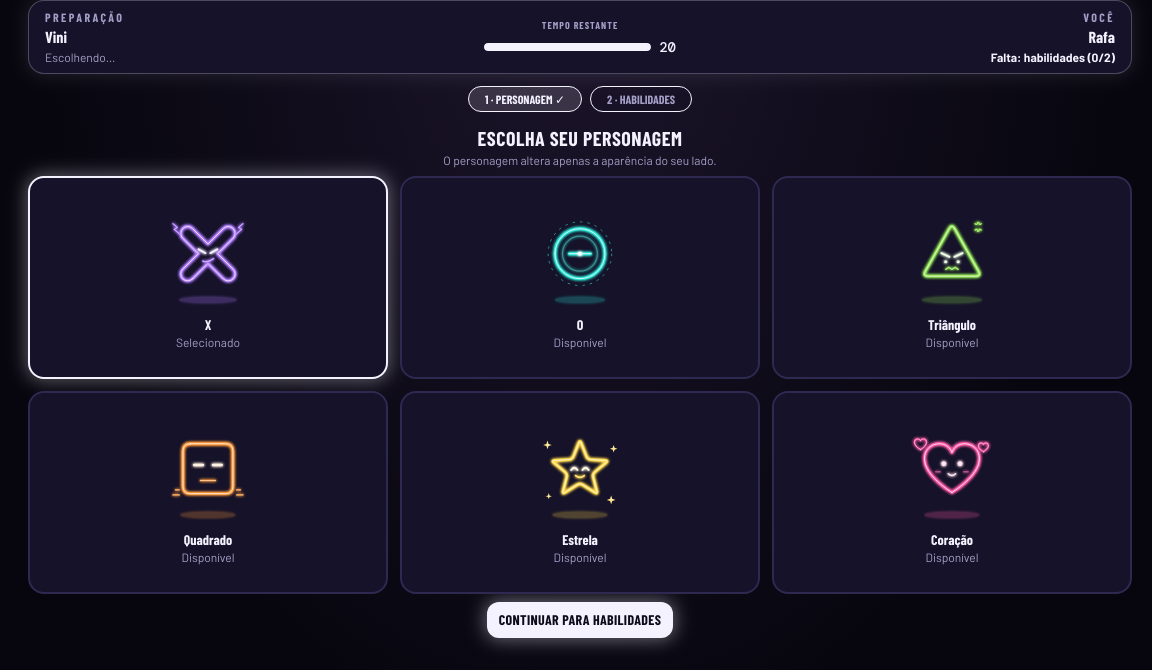
Preparação (FE-09) › sem inventário (até a FE-30), tudo vem desbloqueado para testes
Expected: the button "Estrela Disponível" is enabled, [400, 391, 760, 594]
Click the button "Continuar para habilidades". click: (580,620)
box: [487, 602, 673, 638]
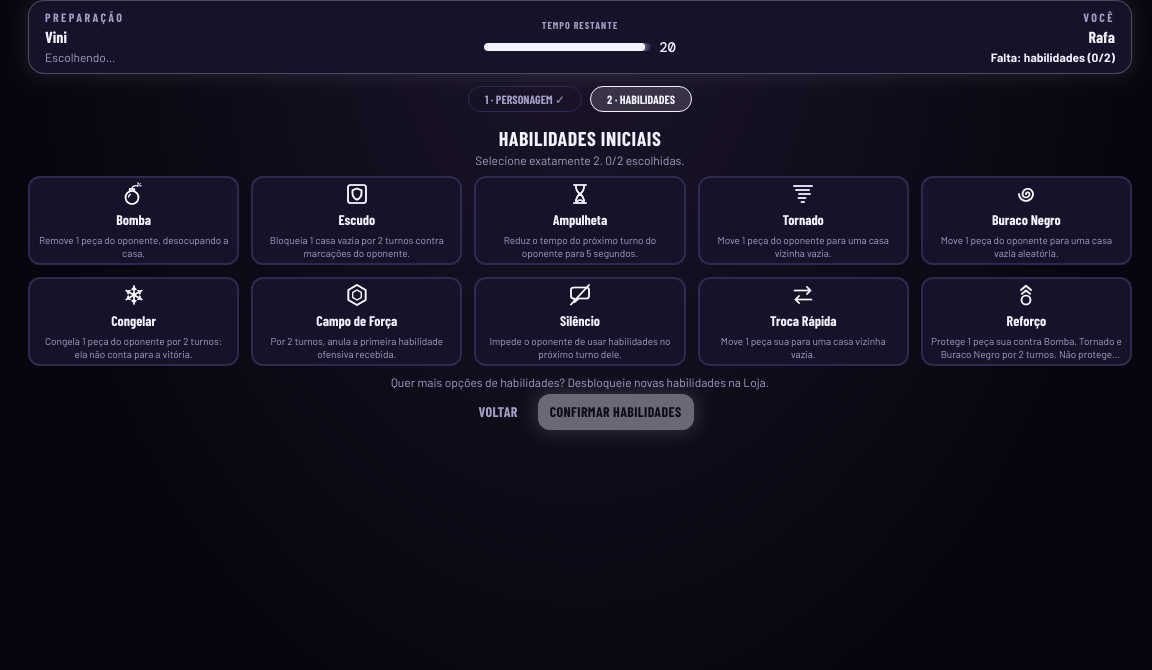
Result: the button with aria-label "Tornado." is enabled at [698, 176, 909, 265]
